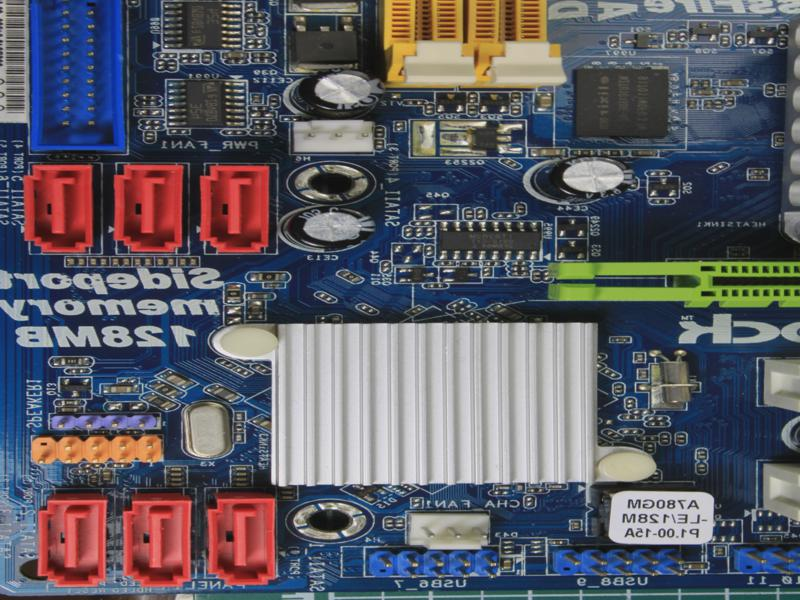Capacitor: (530, 154, 629, 205), (279, 204, 379, 252), (285, 69, 386, 116)
